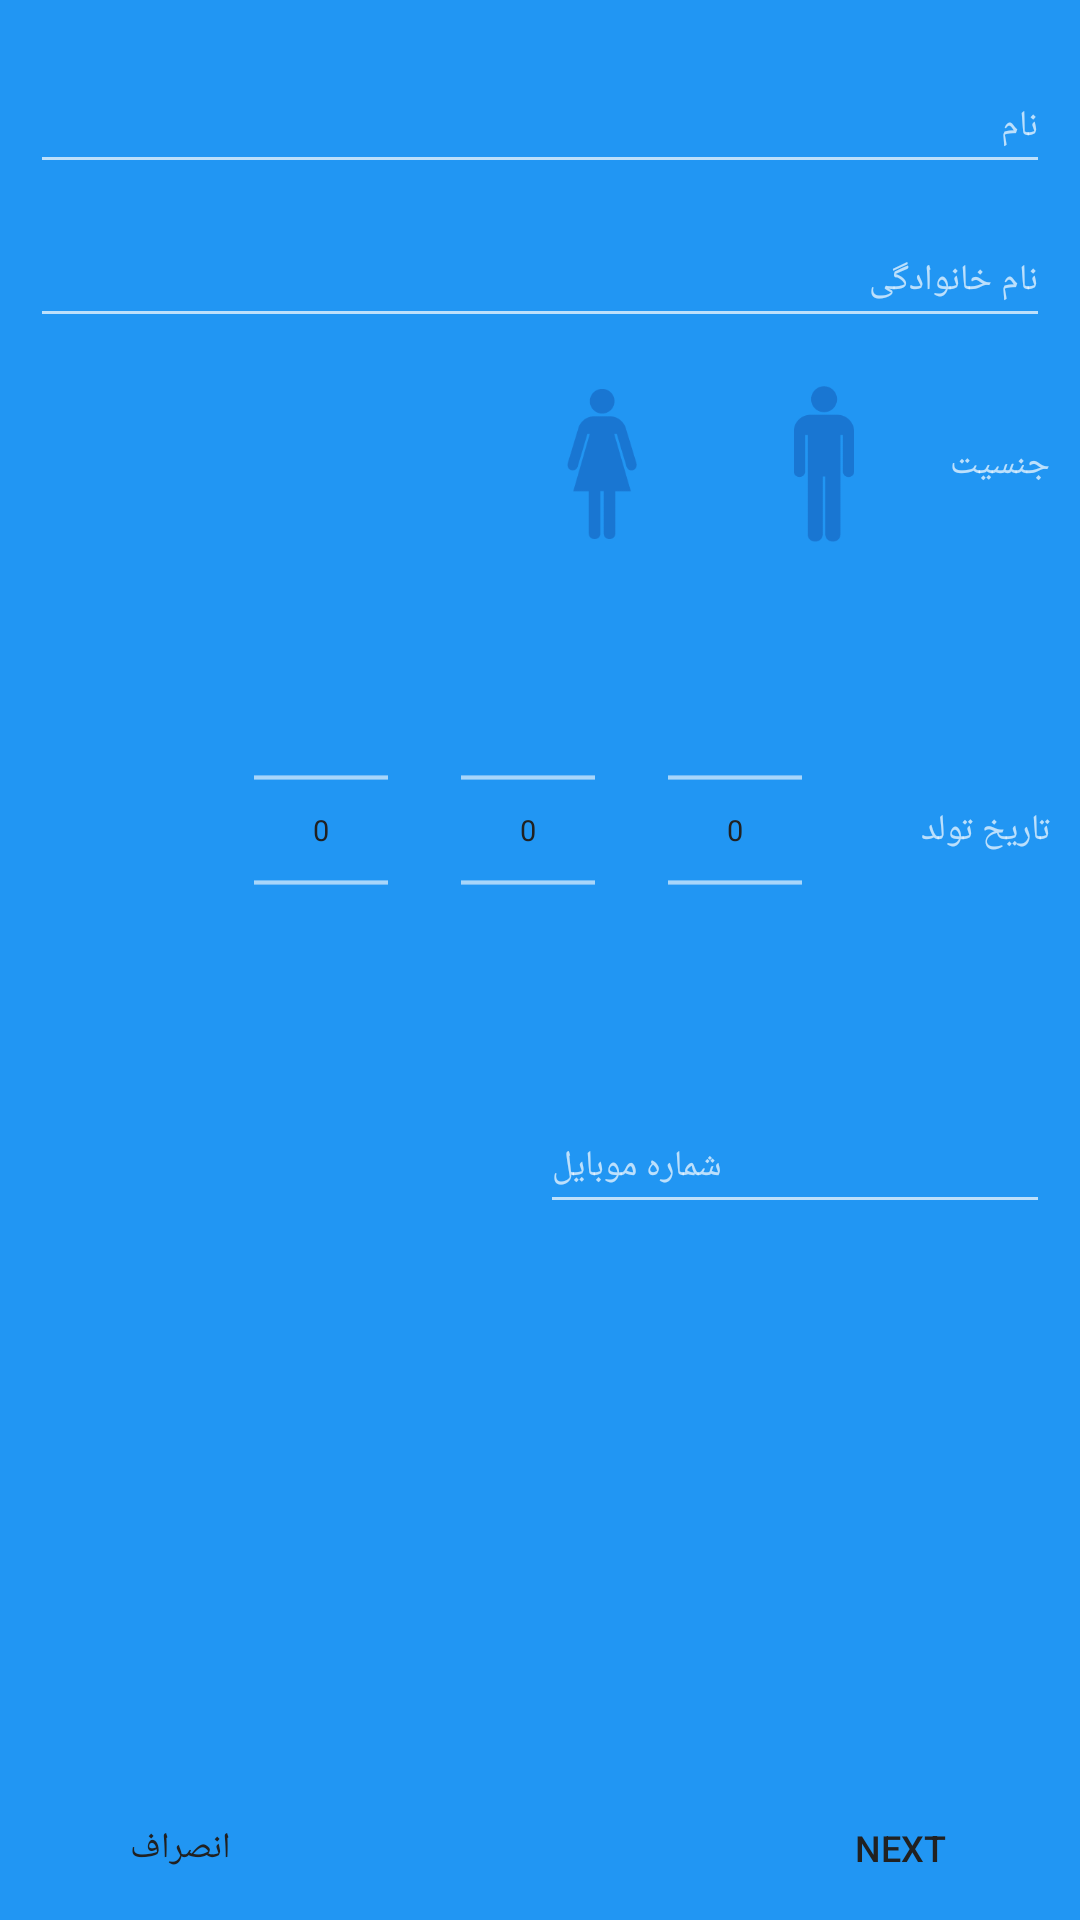

Locate icon controls on the screen. Image size 1080×1920, boxes as (x1, y1, x2, y2).
female: (568, 389, 636, 539)
male: (794, 387, 854, 541)
